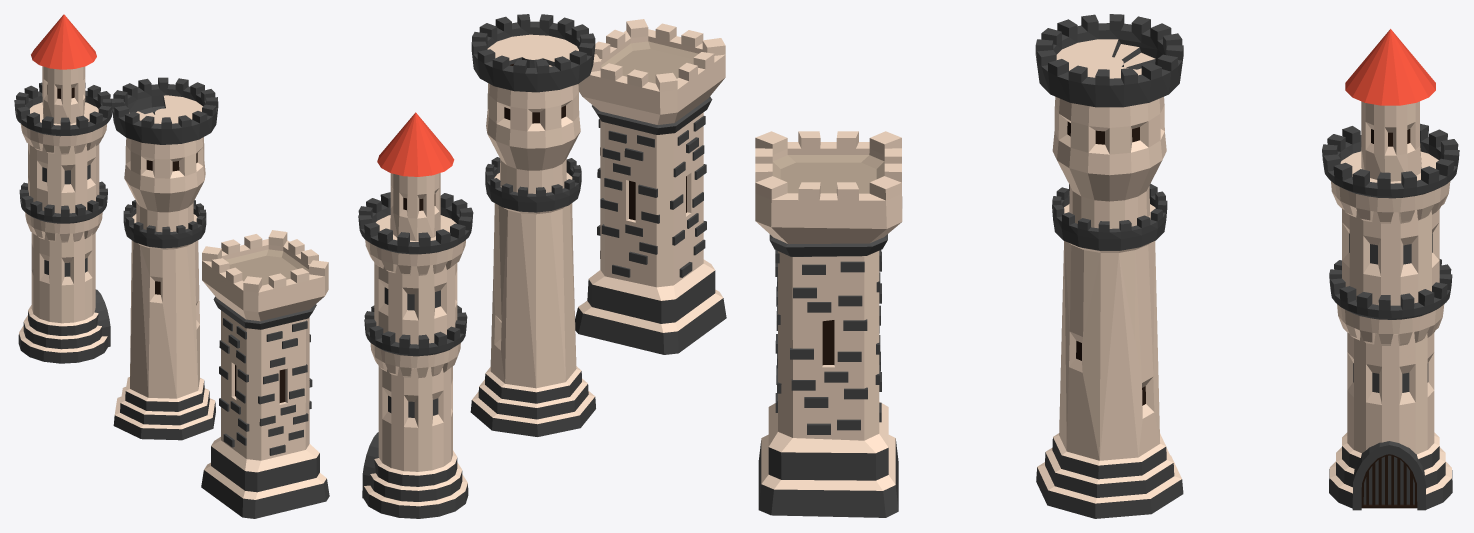
File: Pack_Towers.fbx
The picture shows the model from 3 angles, left to right: view 1: azimuth 30°, elevation 25°; view 2: azimuth 150°, elevation 25°; view 3: azimuth 270°, elevation 25°; orthographic projection. The views are drawn at different scales.
Parts seen in each view (by area): view 1: Castle.008, Castle.004, Castle.010; view 2: Castle.008, Castle.004, Castle.010; view 3: Castle.008, Castle.004, Castle.010.
Boxes of the visible parts, x1,y1,x2,y2 form: Castle.008: (111, 77, 218, 440); Castle.004: (201, 230, 329, 518); Castle.010: (14, 14, 112, 363); Castle.008: (470, 14, 595, 436); Castle.004: (575, 19, 726, 354); Castle.010: (358, 112, 473, 518); Castle.008: (1035, 14, 1183, 518); Castle.004: (755, 131, 902, 517); Castle.010: (1322, 29, 1459, 510).
Size of what is drawn, in the model's own units: 423 by 1442 by 2004.
